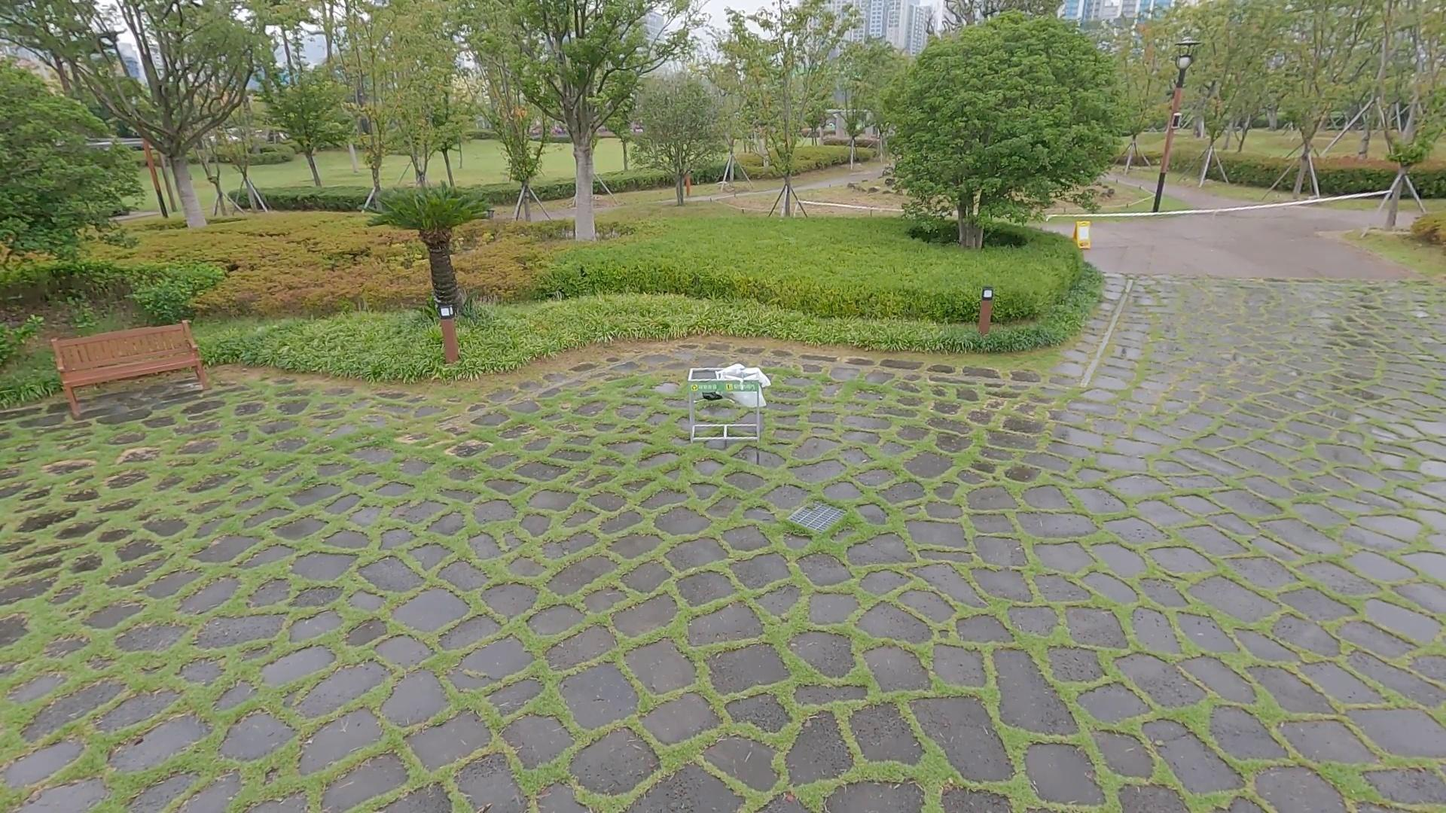trash: (701, 390, 723, 401)
